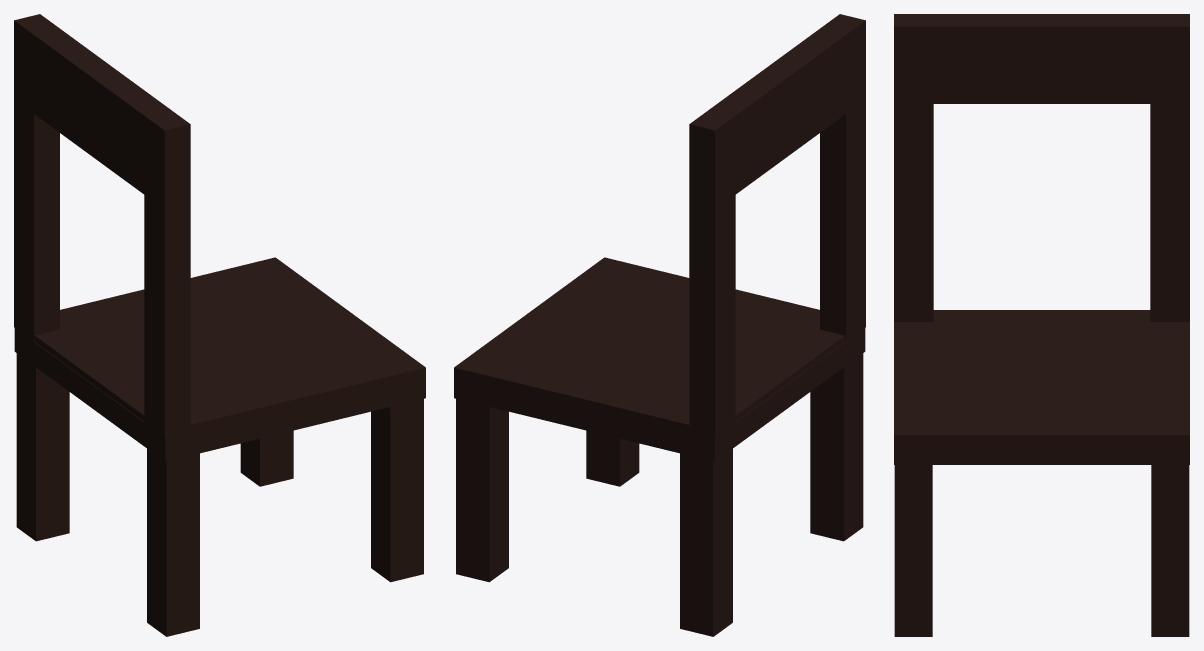
File: Chair.fbx
The picture shows the model from 3 angles, left to right: view 1: azimuth 30°, elevation 25°; view 2: azimuth 150°, elevation 25°; view 3: azimuth 270°, elevation 25°; orthographic projection.
Visible parts, largest first — view 1: Cube, Cube.002, Cube.001; view 2: Cube, Cube.002, Cube.001; view 3: Cube, Cube.002, Cube.001.
Boxes of the visible parts, bbox=[...] form: Cube: bbox=[14, 257, 425, 461]; Cube.002: bbox=[14, 14, 190, 437]; Cube.001: bbox=[16, 353, 423, 636]; Cube: bbox=[454, 257, 865, 461]; Cube.002: bbox=[689, 14, 865, 437]; Cube.001: bbox=[456, 353, 863, 636]; Cube: bbox=[894, 310, 1189, 464]; Cube.002: bbox=[894, 14, 1189, 321]; Cube.001: bbox=[894, 465, 1189, 636].
Bounding box in the file's own units: 401 × 744 × 400.
